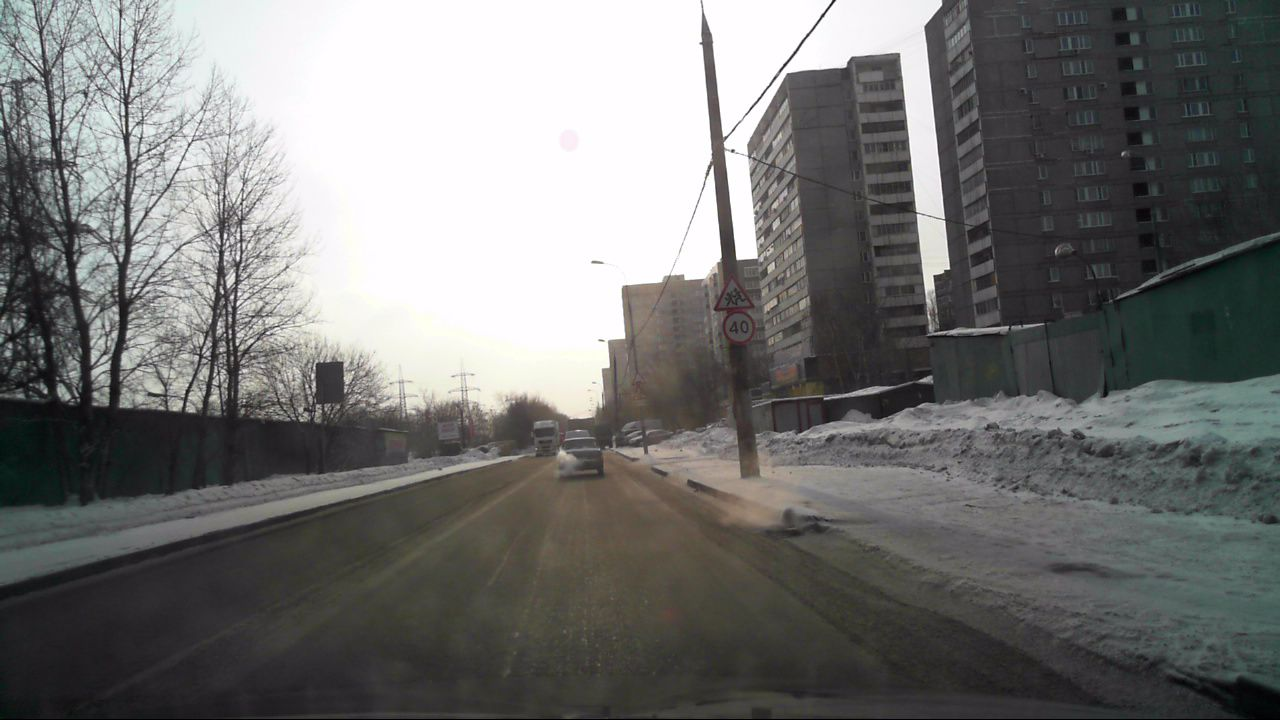speed_warning_40: (722, 312, 754, 342)
